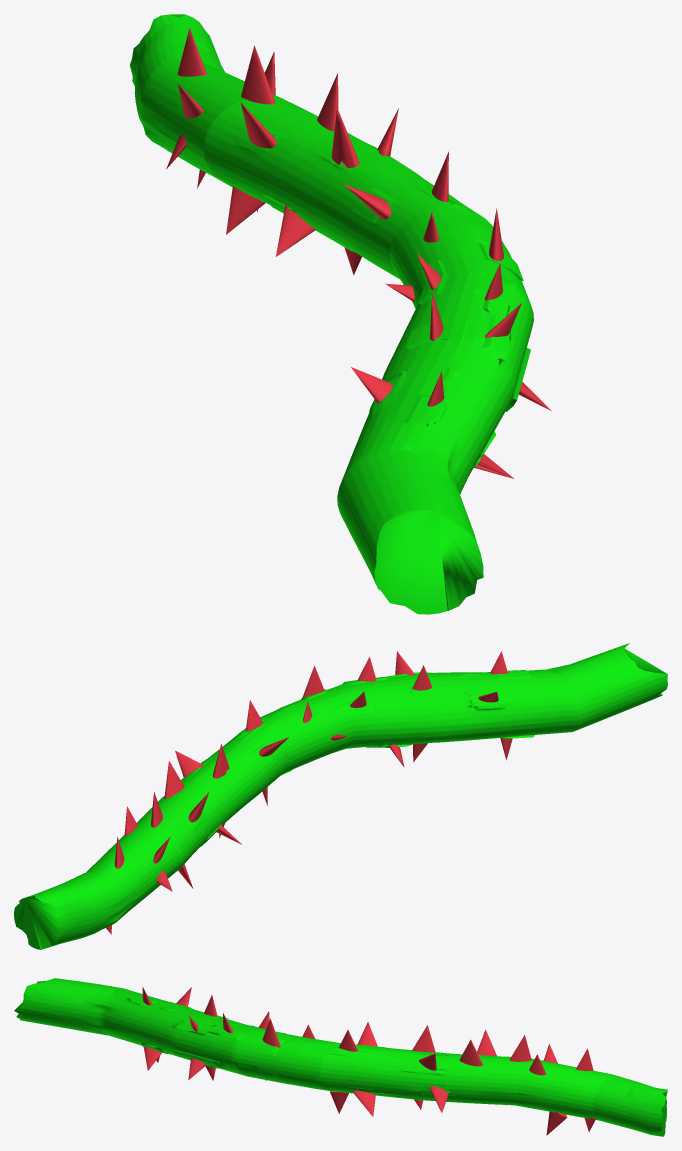
The model's file is plant1 (1).fbx.
The picture shows the model from 3 angles, top to bottom: view 1: azimuth 30°, elevation 25°; view 2: azimuth 150°, elevation 25°; view 3: azimuth 270°, elevation 25°; orthographic projection. The views are drawn at different scales.
Parts seen in each view (by area): view 1: Cylinder; view 2: Cylinder; view 3: Cylinder.
Part boxes in pixels (x1,y1,x2,y2): Cylinder: [130, 14, 551, 614]; Cylinder: [14, 643, 667, 949]; Cylinder: [14, 978, 667, 1136].
Bounding box in the file's own units: 353 × 160 × 865.
